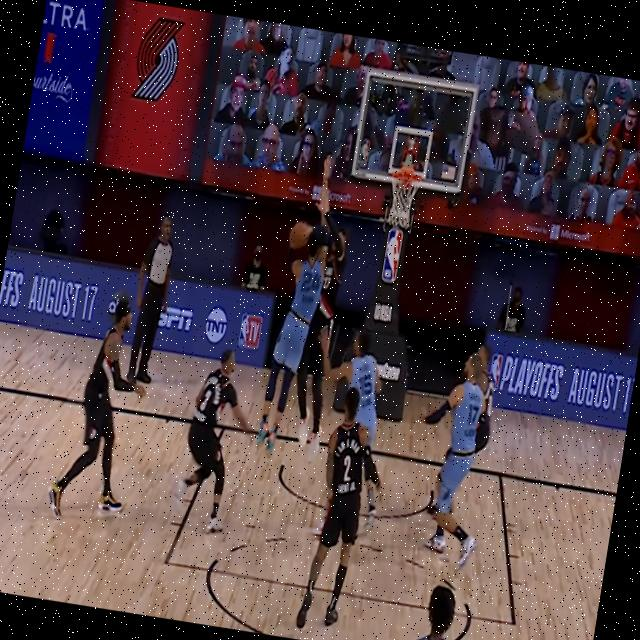foul: (243, 145, 368, 475)
no foul: (286, 321, 394, 630), (282, 393, 395, 640)
